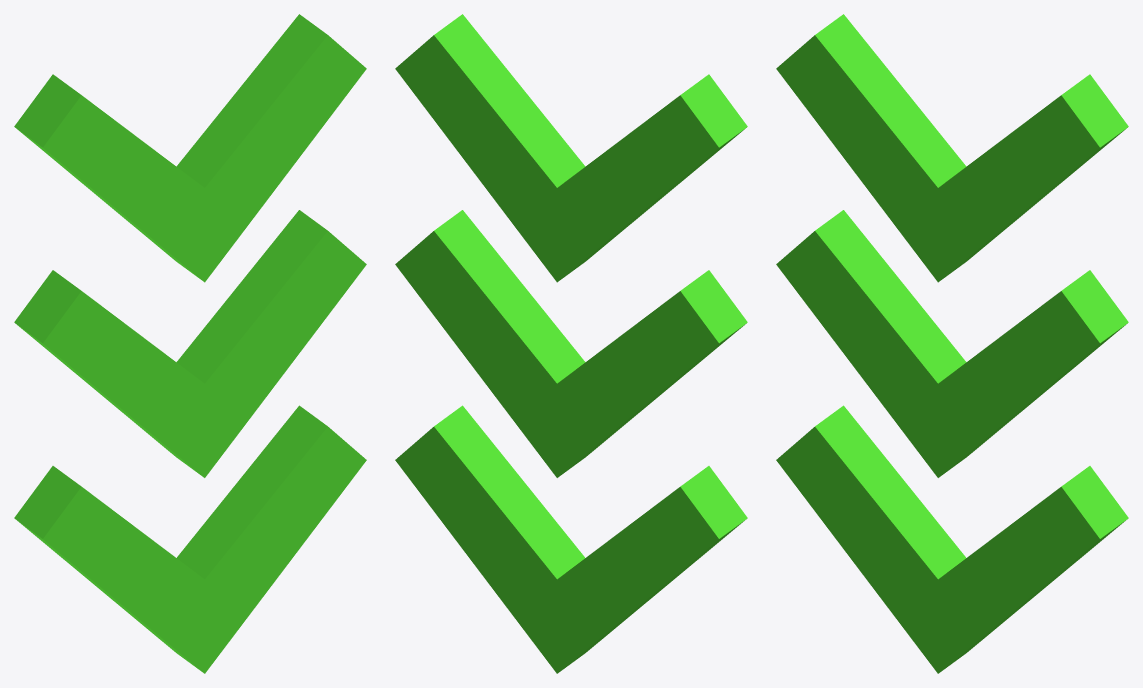
File: boostarrow.glb
The picture shows the model from 3 angles, left to right: view 1: azimuth 30°, elevation 25°; view 2: azimuth 150°, elevation 25°; view 3: azimuth 330°, elevation 25°; orthographic projection.
Visible parts, largest first — view 1: BoostArrow; view 2: BoostArrow; view 3: BoostArrow.
Boxes of the visible parts, x1,y1,x2,y2 form: BoostArrow: (14, 14, 366, 673); BoostArrow: (395, 14, 747, 673); BoostArrow: (776, 14, 1128, 673).
Size of the model in its own units: 1.01 by 1.81 by 0.1551.
